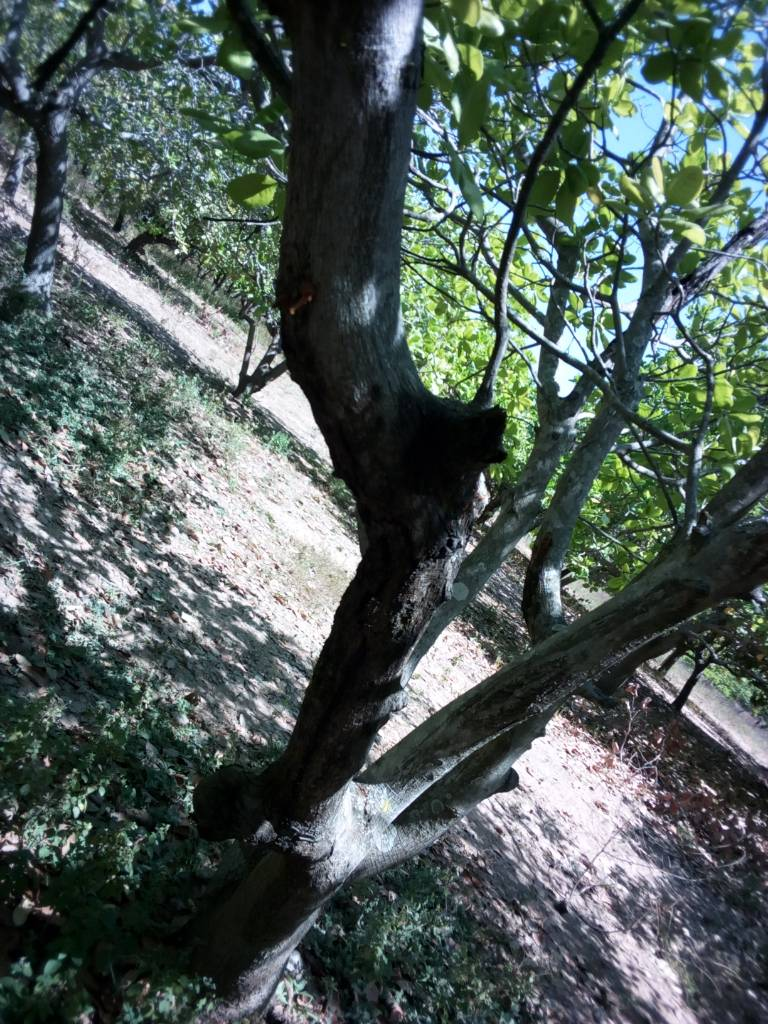Gommose: (385, 369, 511, 514)
